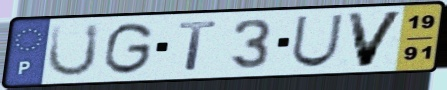3: (227, 17, 277, 70)
G: (101, 20, 157, 77)
T: (176, 19, 221, 73)
U: (44, 21, 103, 79), (288, 12, 346, 70)
V: (343, 9, 408, 69)
